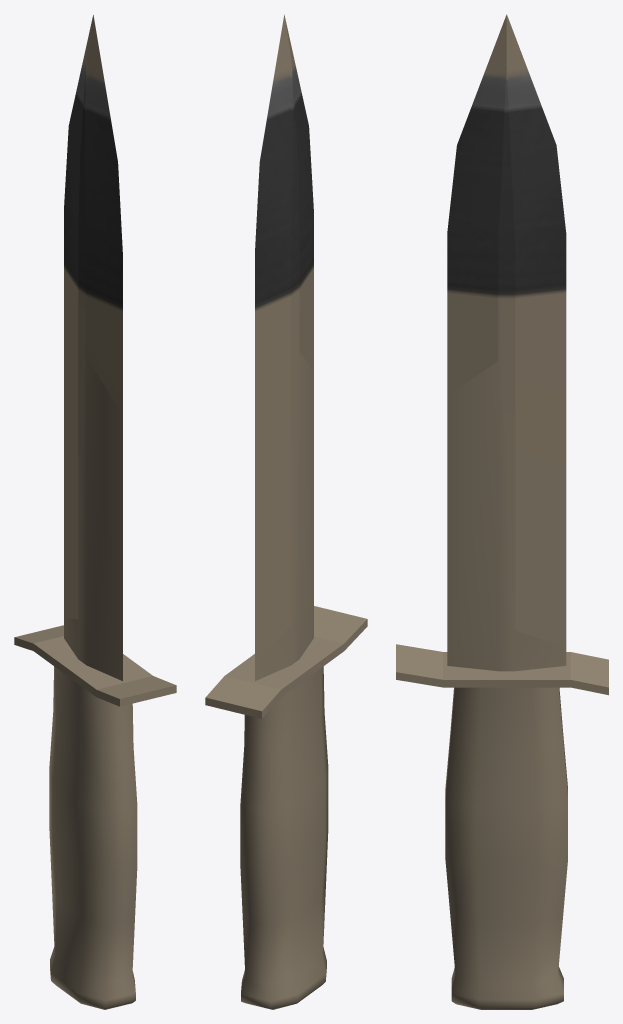
Rendered from CombatKnifeSOMW.fbx.
3 renders of one model, left to right at view 1: azimuth 30°, elevation 25°; view 2: azimuth 150°, elevation 25°; view 3: azimuth 270°, elevation 25°, orthographic.
Parts seen in each view (by area): view 1: CombatKnife; view 2: CombatKnife; view 3: CombatKnife.
Part boxes in pixels (<box>): CombatKnife: <box>14,15,176,1009</box>; CombatKnife: <box>205,14,367,1009</box>; CombatKnife: <box>396,14,608,1009</box>.
Bounding box in the file's own units: 0.0155 × 0.255 × 0.05.
